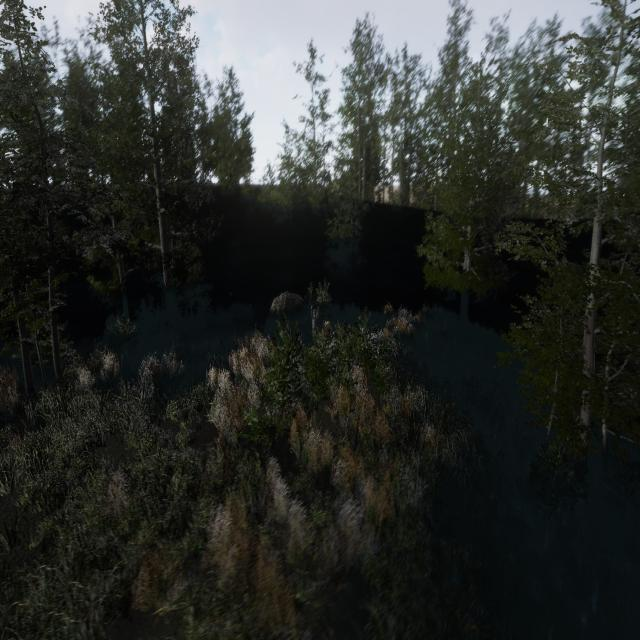Human: (304, 299, 325, 359)
